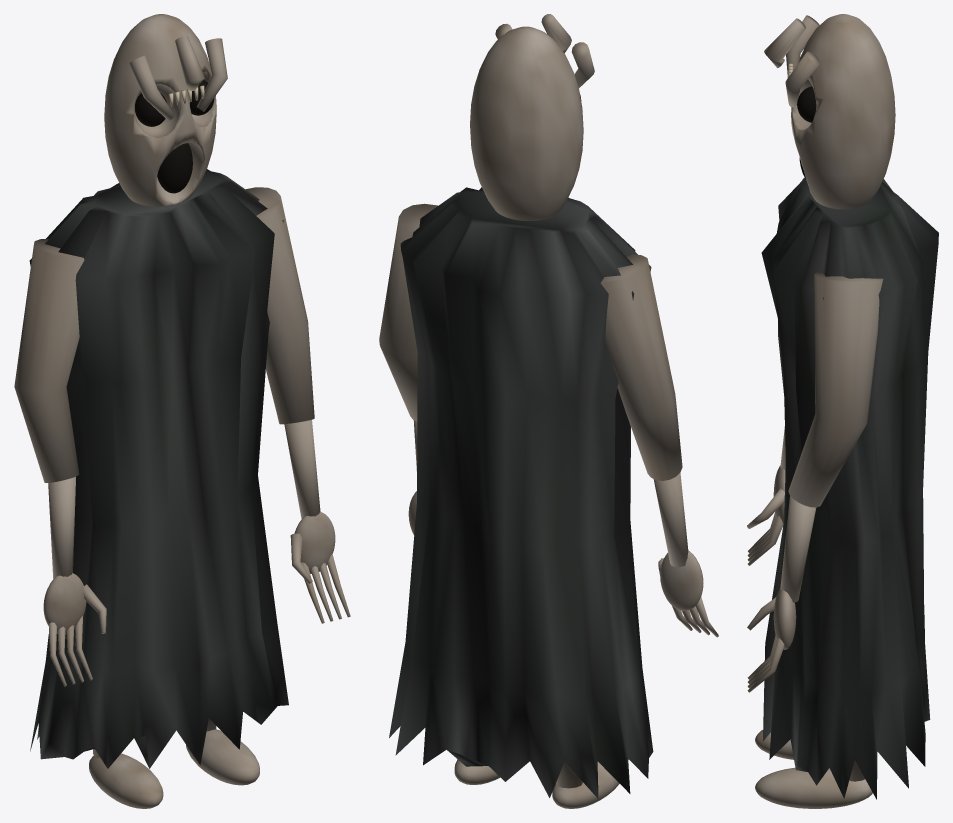
The model's file is visitor-ragged.glb.
3 renders of one model, left to right at view 1: azimuth 30°, elevation 25°; view 2: azimuth 150°, elevation 25°; view 3: azimuth 270°, elevation 25°, orthographic.
Parts seen in each view (by area): view 1: Torso, ArmL, ArmR, Head, LegL, LegR, Mouth darkness, Cheek ridge.001, Cheek ridge, Nasal bone, Hollow eyes; view 2: Torso, Head, ArmL, ArmR, LegL, LegR, Cheek ridge; view 3: Torso, ArmR, Head, LegR, ArmL, Cheek ridge.001, Nasal bone, Cheek ridge, Hollow eyes.001, LegL.
Part boxes in pixels (x1,y1,x2,y2): Torso: (29, 169, 288, 768); ArmL: (14, 239, 106, 686); ArmR: (246, 187, 350, 623); Head: (104, 14, 216, 206); LegL: (89, 749, 163, 808); LegR: (186, 718, 259, 785); Mouth darkness: (157, 143, 192, 193); Cheek ridge.001: (197, 38, 227, 111); Cheek ridge: (129, 55, 174, 120); Nasal bone: (175, 35, 204, 90); Hollow eyes: (135, 93, 167, 126); Torso: (389, 187, 653, 798); Head: (470, 26, 583, 220); ArmL: (600, 254, 718, 637); ArmR: (379, 203, 437, 535); LegL: (552, 761, 619, 808); LegR: (454, 759, 500, 784); Cheek ridge: (571, 42, 594, 87); Torso: (761, 177, 938, 799); ArmR: (747, 272, 883, 692); Head: (791, 14, 895, 209); LegR: (755, 760, 872, 808); ArmL: (747, 426, 785, 565); Cheek ridge.001: (785, 51, 820, 107); Nasal bone: (764, 18, 805, 68); Cheek ridge: (786, 15, 819, 77); Hollow eyes.001: (797, 86, 816, 122); LegL: (755, 730, 793, 759).
Bounding box in the file's own units: 0.84 × 2.1 × 0.477.
